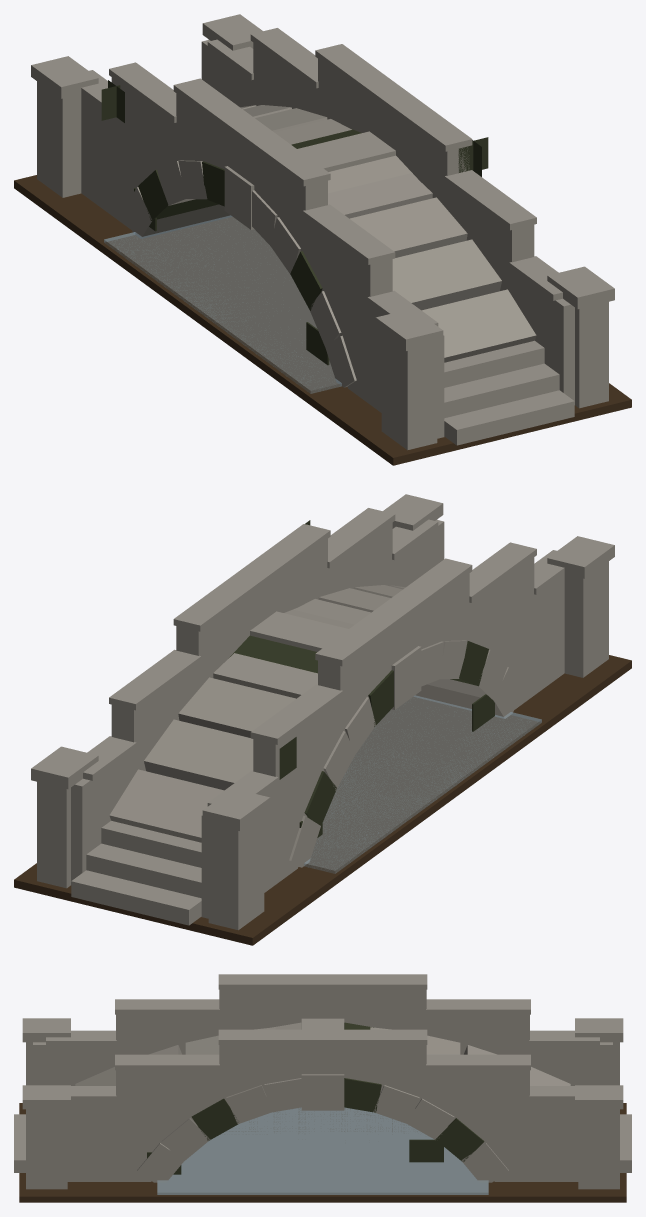
Rendered from small-stone-arch-bridge.glb.
3 views of the same model, one above another, from view 1: azimuth 30°, elevation 25°; view 2: azimuth 150°, elevation 25°; view 3: azimuth 270°, elevation 25° (orthographic). The views are drawn at different scales.
Parts seen in each view (by area): view 1: Mesh_CarvedSides, Mesh_CanalBase, Mesh_CanalWater, Mesh_Buttress_BL, Mesh_DeckSlab_7, Mesh_DeckSlab_8, Mesh_Buttress_FL, Mesh_DeckSlab_6, Mesh_Step_R0, Mesh_Voussoir_5, Mesh_Step_R1, Mesh_Buttress_BR (+37 smaller); view 2: Mesh_CarvedSides, Mesh_CanalBase, Mesh_CanalWater, Mesh_Buttress_FL, Mesh_DeckSlab_1, Mesh_DeckSlab_0, Mesh_Buttress_BL, Mesh_DeckSlab_2, Mesh_Step_L0, Mesh_Voussoir_5, Mesh_Step_L1, Mesh_Buttress_FR (+36 smaller); view 3: Mesh_CarvedSides, Mesh_CanalBase, Mesh_CanalWater, Mesh_Buttress_FR, Mesh_Buttress_BR, Mesh_Voussoir_5, Mesh_ButtressCap_FR, Mesh_ButtressCap_BR, Mesh_Voussoir_6, Mesh_Voussoir_4, Mesh_Voussoir_9, Mesh_CopingCenter_0_F (+33 smaller).
Part boxes in pixels (box(x1,y1,x2,y2)): Mesh_CarvedSides: box(81, 40, 574, 438); Mesh_CanalBase: box(14, 175, 631, 465); Mesh_CanalWater: box(104, 215, 341, 393); Mesh_Buttress_BL: box(381, 334, 437, 450); Mesh_DeckSlab_7: box(392, 239, 501, 310); Mesh_DeckSlab_8: box(421, 289, 536, 362); Mesh_Buttress_FL: box(37, 81, 81, 197); Mesh_DeckSlab_6: box(350, 197, 467, 257); Mesh_Step_R0: box(444, 390, 574, 445); Mesh_Voussoir_5: box(224, 131, 395, 229); Mesh_Step_R1: box(444, 363, 559, 418); Mesh_Buttress_BR: box(575, 302, 608, 408); Mesh_CarvedSides: box(71, 520, 564, 918); Mesh_CanalBase: box(14, 655, 631, 945); Mesh_CanalWater: box(304, 695, 541, 873); Mesh_Buttress_FL: box(208, 814, 264, 930); Mesh_DeckSlab_1: box(144, 719, 253, 790); Mesh_DeckSlab_0: box(109, 769, 224, 842); Mesh_Buttress_BL: box(564, 561, 608, 677); Mesh_DeckSlab_2: box(178, 677, 295, 737); Mesh_Step_L0: box(71, 870, 201, 925); Mesh_Voussoir_5: box(250, 611, 421, 709); Mesh_Step_L1: box(86, 843, 201, 898); Mesh_Buttress_FR: box(37, 782, 70, 888); Mesh_CarvedSides: box(33, 989, 612, 1181); Mesh_CanalBase: box(19, 1103, 626, 1202); Mesh_CanalWater: box(157, 1107, 488, 1194); Mesh_Buttress_FR: box(578, 1109, 619, 1189); Mesh_Buttress_BR: box(26, 1109, 67, 1189); Mesh_Voussoir_5: box(301, 1018, 344, 1110); Mesh_ButtressCap_FR: box(575, 1085, 623, 1109); Mesh_ButtressCap_BR: box(22, 1085, 70, 1109); Mesh_Voussoir_6: box(264, 1022, 301, 1112); Mesh_Voussoir_4: box(344, 1022, 381, 1112); Mesh_Voussoir_9: box(161, 1118, 210, 1162); Mesh_CopingCenter_0_F: box(357, 974, 427, 989).
Bounding box in the file's own units: 3.2 × 2.38 × 8.95.
